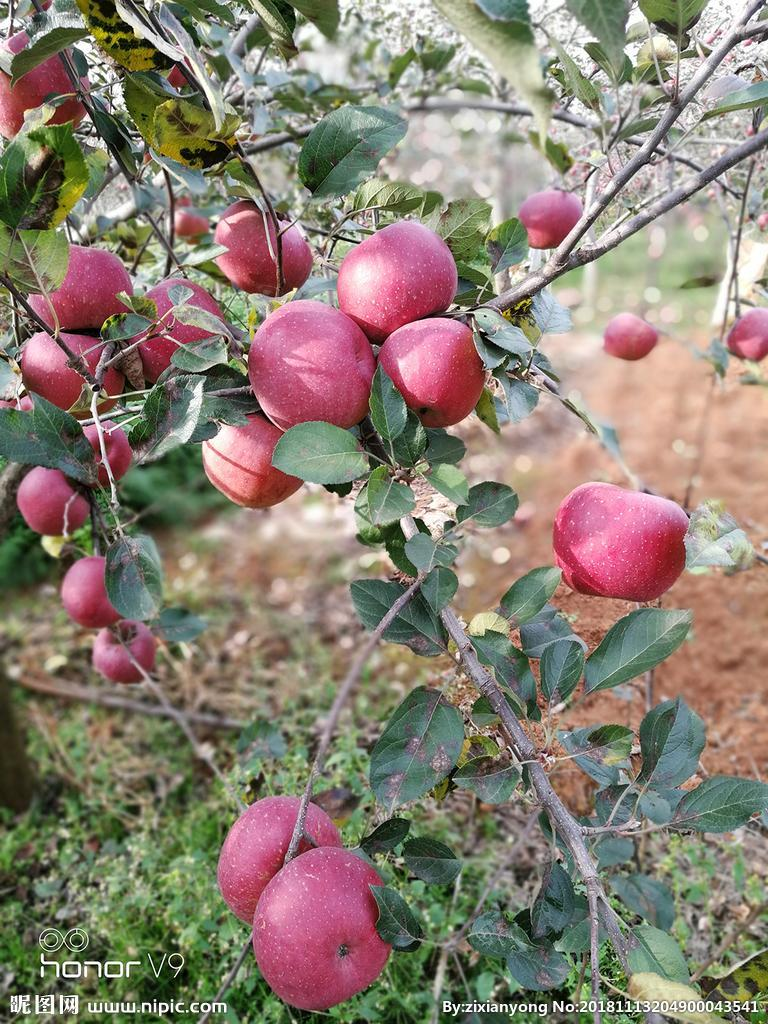apple: (250, 854, 391, 1009), (251, 303, 380, 429), (555, 484, 692, 602), (216, 795, 337, 924), (338, 216, 459, 335), (382, 320, 490, 424), (21, 243, 137, 337), (15, 465, 92, 537), (60, 554, 123, 632), (89, 620, 158, 685), (515, 189, 584, 252), (724, 307, 768, 361)
